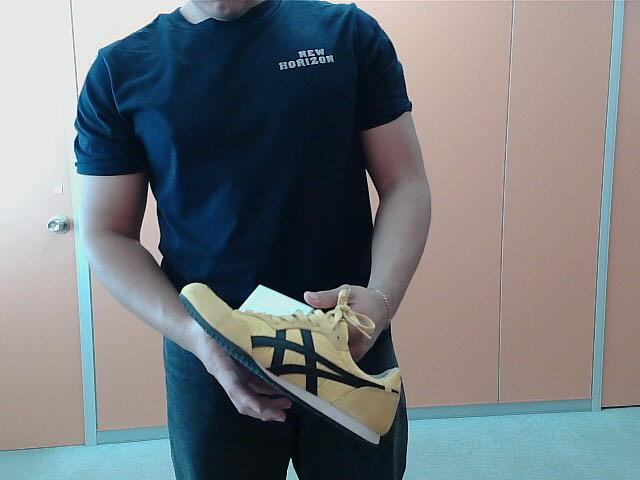Blind_box: (240, 278, 324, 331)
Shoes: (186, 270, 406, 448)
